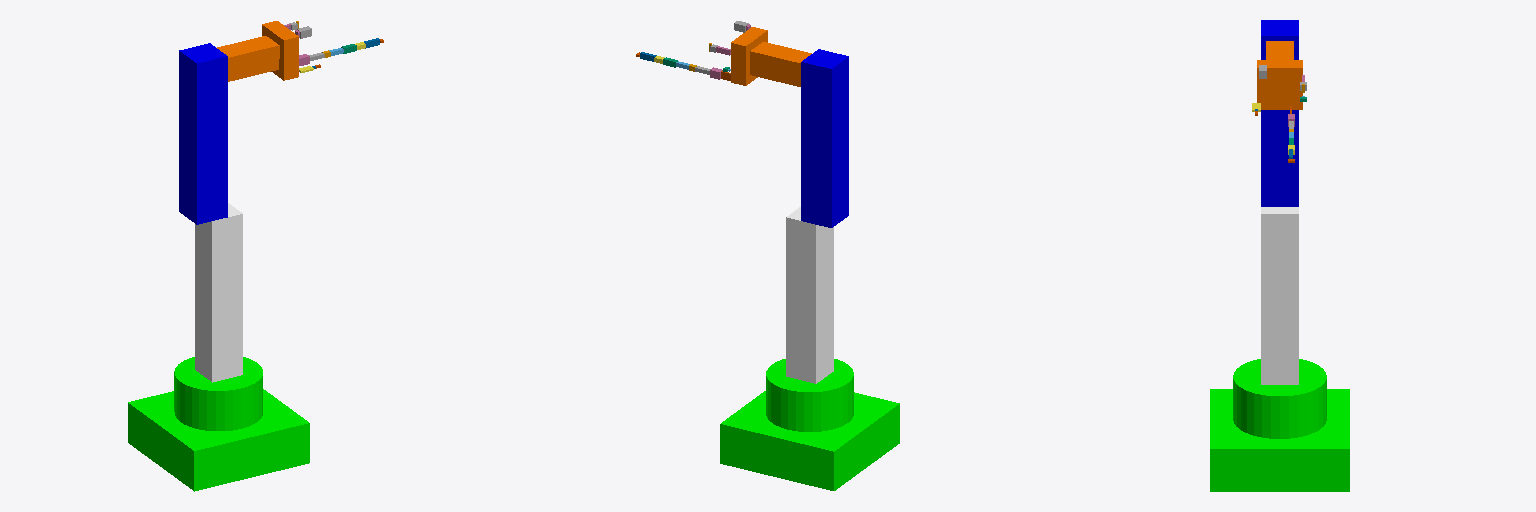
The robot description file, URDF, robot "robot":
<?xml version='1.0' encoding='utf-8'?>
<robot name="robot">
  <link name="base_link">
    <visual>
      <origin xyz="0 0 0.125" rpy="0 0 0" />
      <geometry>
        <box size="0.75 0.75 0.25" />
      </geometry>
      <material name="green" />
    </visual>
    <visual>
      <origin xyz="0 0 0.375" rpy="0 0 0" />
      <geometry>
        <cylinder length="0.25" radius="0.25" />
      </geometry>
      <material name="green">
        <color rgba="0 1 0 1" />
      </material>
    </visual>
    <collision>
      <geometry>
        <box size="0.75 0.75 0.5" />
      </geometry>
    </collision>
    <inertial>
      <mass value="0.5" />
      <inertia ixx="0.034" ixy="0.0" ixz="0.0" iyy="0.034" iyz="0.0" izz="0.034" />
    </inertial>
  </link>
  <link name="support_link">
    <visual>
      <origin xyz="0 0 0.5" rpy="0 0 0" />
      <geometry>
        <box size="0.2 0.2 1" />
      </geometry>
      <material name="white">
        <color rgba="1 1 1 1" />
      </material>
    </visual>
    <collision>
      <geometry>
        <box size="0.2 0.2 1" />
      </geometry>
    </collision>
    <inertial>
      <mass value="0.1" />
      <inertia ixx="0.01" ixy="0.0" ixz="0.0" iyy="0.01" iyz="0.0" izz="0.01" />
    </inertial>
  </link>
  <joint name="support_joint" type="continuous">
    <origin xyz="0 0 0.5" rpy="0 0 0" />
    <parent link="base_link" />
    <child link="support_link" />
    <axis xyz="0 0 1" />
  </joint>
  <link name="arm_link">
    <visual>
      <origin xyz="0 0 0.5" rpy="0 0 0" />
      <geometry>
        <box size="0.2 0.2 1" />
      </geometry>
      <material name="blue">
        <color rgba="0 0 1 1" />
      </material>
    </visual>
    <collision>
      <geometry>
        <box size="0.2 0.2 1" />
      </geometry>
    </collision>
    <inertial>
      <mass value="0.1" />
      <inertia ixx="0.01" ixy="0.0" ixz="0.0" iyy="0.01" iyz="0.0" izz="0.01" />
    </inertial>
  </link>
  <joint name="arm_joint" type="revolute">
    <origin xyz="-0.1 0 1" rpy="0 0 0" />
    <parent link="support_link" />
    <child link="arm_link" />
    <axis xyz="0 1 0" />
    <limit lower="-3.14" upper="3.14" effort="1.0" velocity="1.0" />
  </joint>
  <link name="wrist_link">
    <visual>
      <origin xyz="0 0 0.25" rpy="0 0 0" />
      <geometry>
        <box size="0.15 0.15 0.5" />
      </geometry>
      <material name="orange">
        <color rgba="1 0.5 0 1" />
      </material>
    </visual>
    <collision>
      <geometry>
        <box size="0.15 0.15 0.5" />
      </geometry>
    </collision>
    <inertial>
      <mass value="0.1" />
      <inertia ixx="0.01" ixy="0.0" ixz="0.0" iyy="0.01" iyz="0.0" izz="0.01" />
    </inertial>
  </link>
  <joint name="wrist_joint" type="fixed">
    <origin xyz="0 0 0.9" rpy="0 1.571 0" />
    <parent link="arm_link" />
    <child link="wrist_link" />
  </joint>
  <link name="palm_link">
    <visual>
      <origin xyz="0 0 0.05" rpy="0 0 0" />
      <geometry>
        <box size="0.25 0.25 0.1" />
      </geometry>
      <material name="orange" />
    </visual>
    <collision>
      <geometry>
        <box size="0.25 0.25 0.1" />
      </geometry>
    </collision>
    <inertial>
      <mass value="0.1" />
      <inertia ixx="0.01" ixy="0.0" ixz="0.0" iyy="0.01" iyz="0.0" izz="0.01" />
    </inertial>
  </link>
  <joint name="palm_joint" type="fixed">
    <origin xyz="0 0 0.45" rpy="0 0 0" />
    <parent link="wrist_link" />
    <child link="palm_link" />
  </joint>
  <link name="finger_link_0_0">
    <visual>
      <origin xyz="0 0 0.048" rpy="0 0 0" />
      <geometry>
        <box size="0.047 0.011 0.096" />
      </geometry>
    </visual>
    <collision>
      <geometry>
        <box size="0.047 0.011 0.096" />
      </geometry>
    </collision>
    <inertial>
      <mass value="0.015" />
      <inertia ixx="0.0" iyy="0.0" izz="0.0" ixy="0" ixz="0" iyz="0" />
    </inertial>
  </link>
  <joint name="finger_joint_palm_link_to_finger_link_0_0" type="revolute">
    <origin xyz="0.125 0.061 0.1" rpy="0 0 0" />
    <parent link="palm_link" />
    <child link="finger_link_0_0" />
    <axis xyz="0.0 1.0 0.0" />
    <limit lower="-3.142" upper="3.142" effort="10" velocity="10" />
  </joint>
  <link name="finger_link_0_1">
    <visual>
      <origin xyz="0 0 0.0335" rpy="0 0 0" />
      <geometry>
        <box size="0.047 0.041 0.067" />
      </geometry>
    </visual>
    <collision>
      <geometry>
        <box size="0.047 0.041 0.067" />
      </geometry>
    </collision>
    <inertial>
      <mass value="0.039" />
      <inertia ixx="0.0" iyy="0.0" izz="0.0" ixy="0" ixz="0" iyz="0" />
    </inertial>
  </link>
  <joint name="finger_joint_finger_link_0_0_to_finger_link_0_1" type="revolute">
    <origin xyz="0.0 0.0 0.096" rpy="0 0 0" />
    <parent link="finger_link_0_0" />
    <child link="finger_link_0_1" />
    <axis xyz="1.0 0.0 0.0" />
    <limit lower="-3.142" upper="3.142" effort="10" velocity="10" />
  </joint>
  <link name="finger_link_0_2">
    <visual>
      <origin xyz="0 0 0.05" rpy="0 0 0" />
      <geometry>
        <box size="0.024 0.028 0.1" />
      </geometry>
    </visual>
    <collision>
      <geometry>
        <box size="0.024 0.028 0.1" />
      </geometry>
    </collision>
    <inertial>
      <mass value="0.02" />
      <inertia ixx="0.0" iyy="0.0" izz="0.0" ixy="0" ixz="0" iyz="0" />
    </inertial>
  </link>
  <joint name="finger_joint_finger_link_0_1_to_finger_link_0_2" type="revolute">
    <origin xyz="0.0 0.0 0.067" rpy="0 0 0" />
    <parent link="finger_link_0_1" />
    <child link="finger_link_0_2" />
    <axis xyz="1.0 0.0 0.0" />
    <limit lower="-3.142" upper="3.142" effort="10" velocity="10" />
  </joint>
  <link name="finger_link_0_3">
    <visual>
      <origin xyz="0 0 0.021" rpy="0 0 0" />
      <geometry>
        <box size="0.029 0.028 0.042" />
      </geometry>
    </visual>
    <collision>
      <geometry>
        <box size="0.029 0.028 0.042" />
      </geometry>
    </collision>
    <inertial>
      <mass value="0.01" />
      <inertia ixx="0.0" iyy="0.0" izz="0.0" ixy="0" ixz="0" iyz="0" />
    </inertial>
  </link>
  <joint name="finger_joint_finger_link_0_2_to_finger_link_0_3" type="revolute">
    <origin xyz="0.0 0.0 0.1" rpy="0 0 0" />
    <parent link="finger_link_0_2" />
    <child link="finger_link_0_3" />
    <axis xyz="0.0 1.0 0.0" />
    <limit lower="-3.142" upper="3.142" effort="10" velocity="10" />
  </joint>
  <link name="finger_link_0_4">
    <visual>
      <origin xyz="0 0 0.042" rpy="0 0 0" />
      <geometry>
        <box size="0.026 0.024 0.084" />
      </geometry>
    </visual>
    <collision>
      <geometry>
        <box size="0.026 0.024 0.084" />
      </geometry>
    </collision>
    <inertial>
      <mass value="0.016" />
      <inertia ixx="0.0" iyy="0.0" izz="0.0" ixy="0" ixz="0" iyz="0" />
    </inertial>
  </link>
  <joint name="finger_joint_finger_link_0_3_to_finger_link_0_4" type="revolute">
    <origin xyz="0.0 0.0 0.042" rpy="0 0 0" />
    <parent link="finger_link_0_3" />
    <child link="finger_link_0_4" />
    <axis xyz="0.0 1.0 0.0" />
    <limit lower="-3.142" upper="3.142" effort="10" velocity="10" />
  </joint>
  <link name="finger_link_0_5">
    <visual>
      <origin xyz="0 0 0.0405" rpy="0 0 0" />
      <geometry>
        <box size="0.036 0.029 0.081" />
      </geometry>
    </visual>
    <collision>
      <geometry>
        <box size="0.036 0.029 0.081" />
      </geometry>
    </collision>
    <inertial>
      <mass value="0.025" />
      <inertia ixx="0.0" iyy="0.0" izz="0.0" ixy="0" ixz="0" iyz="0" />
    </inertial>
  </link>
  <joint name="finger_joint_finger_link_0_4_to_finger_link_0_5" type="revolute">
    <origin xyz="0.0 0.0 0.084" rpy="0 0 0" />
    <parent link="finger_link_0_4" />
    <child link="finger_link_0_5" />
    <axis xyz="0.0 1.0 0.0" />
    <limit lower="-3.142" upper="3.142" effort="10" velocity="10" />
  </joint>
  <link name="finger_link_0_6">
    <visual>
      <origin xyz="0 0 0.029" rpy="0 0 0" />
      <geometry>
        <box size="0.027 0.033 0.058" />
      </geometry>
    </visual>
    <collision>
      <geometry>
        <box size="0.027 0.033 0.058" />
      </geometry>
    </collision>
    <inertial>
      <mass value="0.016" />
      <inertia ixx="0.0" iyy="0.0" izz="0.0" ixy="0" ixz="0" iyz="0" />
    </inertial>
  </link>
  <joint name="finger_joint_finger_link_0_5_to_finger_link_0_6" type="revolute">
    <origin xyz="0.0 0.0 0.081" rpy="0 0 0" />
    <parent link="finger_link_0_5" />
    <child link="finger_link_0_6" />
    <axis xyz="0.0 1.0 0.0" />
    <limit lower="-3.142" upper="3.142" effort="10" velocity="10" />
  </joint>
  <link name="finger_link_0_7">
    <visual>
      <origin xyz="0 0 0.049" rpy="0 0 0" />
      <geometry>
        <box size="0.035 0.021 0.098" />
      </geometry>
    </visual>
    <collision>
      <geometry>
        <box size="0.035 0.021 0.098" />
      </geometry>
    </collision>
    <inertial>
      <mass value="0.022" />
      <inertia ixx="0.0" iyy="0.0" izz="0.0" ixy="0" ixz="0" iyz="0" />
    </inertial>
  </link>
  <joint name="finger_joint_finger_link_0_6_to_finger_link_0_7" type="revolute">
    <origin xyz="0.0 0.0 0.058" rpy="0 0 0" />
    <parent link="finger_link_0_6" />
    <child link="finger_link_0_7" />
    <axis xyz="0.0 1.0 0.0" />
    <limit lower="-3.142" upper="3.142" effort="10" velocity="10" />
  </joint>
  <link name="finger_link_0_8">
    <visual>
      <origin xyz="0 0 0.0115" rpy="0 0 0" />
      <geometry>
        <box size="0.013 0.033 0.023" />
      </geometry>
    </visual>
    <collision>
      <geometry>
        <box size="0.013 0.033 0.023" />
      </geometry>
    </collision>
    <inertial>
      <mass value="0.003" />
      <inertia ixx="0.0" iyy="0.0" izz="0.0" ixy="0" ixz="0" iyz="0" />
    </inertial>
  </link>
  <joint name="finger_joint_finger_link_0_7_to_finger_link_0_8" type="revolute">
    <origin xyz="0.0 0.0 0.098" rpy="0 0 0" />
    <parent link="finger_link_0_7" />
    <child link="finger_link_0_8" />
    <axis xyz="1.0 0.0 0.0" />
    <limit lower="-3.142" upper="3.142" effort="10" velocity="10" />
  </joint>
  <link name="finger_link_1_0">
    <visual>
      <origin xyz="0 0 0.044" rpy="0 0 0" />
      <geometry>
        <box size="0.033 0.017 0.088" />
      </geometry>
    </visual>
    <collision>
      <geometry>
        <box size="0.033 0.017 0.088" />
      </geometry>
    </collision>
    <inertial>
      <mass value="0.015" />
      <inertia ixx="0.0" iyy="0.0" izz="0.0" ixy="0" ixz="0" iyz="0" />
    </inertial>
  </link>
  <joint name="finger_joint_palm_link_to_finger_link_1_0" type="revolute">
    <origin xyz="-0.064 0.125 0.1" rpy="0 0 0" />
    <parent link="palm_link" />
    <child link="finger_link_1_0" />
    <axis xyz="-1.0 0.0 0.0" />
    <limit lower="-3.142" upper="3.142" effort="10" velocity="10" />
  </joint>
  <link name="finger_link_1_1">
    <visual>
      <origin xyz="0 0 0.0175" rpy="0 0 0" />
      <geometry>
        <box size="0.032 0.033 0.035" />
      </geometry>
    </visual>
    <collision>
      <geometry>
        <box size="0.032 0.033 0.035" />
      </geometry>
    </collision>
    <inertial>
      <mass value="0.011" />
      <inertia ixx="0.0" iyy="0.0" izz="0.0" ixy="0" ixz="0" iyz="0" />
    </inertial>
  </link>
  <joint name="finger_joint_finger_link_1_0_to_finger_link_1_1" type="revolute">
    <origin xyz="0.0 0.0 0.088" rpy="0 0 0" />
    <parent link="finger_link_1_0" />
    <child link="finger_link_1_1" />
    <axis xyz="0.0 1.0 0.0" />
    <limit lower="-3.142" upper="3.142" effort="10" velocity="10" />
  </joint>
  <link name="finger_link_1_2">
    <visual>
      <origin xyz="0 0 0.0085" rpy="0 0 0" />
      <geometry>
        <box size="0.048 0.013 0.017" />
      </geometry>
    </visual>
    <collision>
      <geometry>
        <box size="0.048 0.013 0.017" />
      </geometry>
    </collision>
    <inertial>
      <mass value="0.003" />
      <inertia ixx="0.0" iyy="0.0" izz="0.0" ixy="0" ixz="0" iyz="0" />
    </inertial>
  </link>
  <joint name="finger_joint_finger_link_1_1_to_finger_link_1_2" type="revolute">
    <origin xyz="0.0 0.0 0.035" rpy="0 0 0" />
    <parent link="finger_link_1_1" />
    <child link="finger_link_1_2" />
    <axis xyz="0.0 1.0 0.0" />
    <limit lower="-3.142" upper="3.142" effort="10" velocity="10" />
  </joint>
  <link name="finger_link_2_0">
    <visual>
      <origin xyz="0 0 0.0075" rpy="0 0 0" />
      <geometry>
        <box size="0.011 0.012 0.015" />
      </geometry>
    </visual>
    <collision>
      <geometry>
        <box size="0.011 0.012 0.015" />
      </geometry>
    </collision>
    <inertial>
      <mass value="0.001" />
      <inertia ixx="0.0" iyy="0.0" izz="0.0" ixy="0" ixz="0" iyz="0" />
    </inertial>
  </link>
  <joint name="finger_joint_palm_link_to_finger_link_2_0" type="revolute">
    <origin xyz="0.049 0.125 0.1" rpy="0 0 0" />
    <parent link="palm_link" />
    <child link="finger_link_2_0" />
    <axis xyz="-1.0 0.0 0.0" />
    <limit lower="-3.142" upper="3.142" effort="10" velocity="10" />
  </joint>
  <link name="finger_link_2_1">
    <visual>
      <origin xyz="0 0 0.012" rpy="0 0 0" />
      <geometry>
        <box size="0.017 0.035 0.024" />
      </geometry>
    </visual>
    <collision>
      <geometry>
        <box size="0.017 0.035 0.024" />
      </geometry>
    </collision>
    <inertial>
      <mass value="0.004" />
      <inertia ixx="0.0" iyy="0.0" izz="0.0" ixy="0" ixz="0" iyz="0" />
    </inertial>
  </link>
  <joint name="finger_joint_finger_link_2_0_to_finger_link_2_1" type="revolute">
    <origin xyz="0.0 0.0 0.015" rpy="0 0 0" />
    <parent link="finger_link_2_0" />
    <child link="finger_link_2_1" />
    <axis xyz="1.0 0.0 0.0" />
    <limit lower="-3.142" upper="3.142" effort="10" velocity="10" />
  </joint>
  <link name="finger_link_3_0">
    <visual>
      <origin xyz="0 0 0.042" rpy="0 0 0" />
      <geometry>
        <box size="0.01 0.043 0.084" />
      </geometry>
    </visual>
    <collision>
      <geometry>
        <box size="0.01 0.043 0.084" />
      </geometry>
    </collision>
    <inertial>
      <mass value="0.011" />
      <inertia ixx="0.0" iyy="0.0" izz="0.0" ixy="0" ixz="0" iyz="0" />
    </inertial>
  </link>
  <joint name="finger_joint_palm_link_to_finger_link_3_0" type="revolute">
    <origin xyz="0.088 -0.125 0.1" rpy="0 0 0" />
    <parent link="palm_link" />
    <child link="finger_link_3_0" />
    <axis xyz="1.0 0.0 0.0" />
    <limit lower="-3.142" upper="3.142" effort="10" velocity="10" />
  </joint>
  <link name="finger_link_3_1">
    <visual>
      <origin xyz="0 0 0.01" rpy="0 0 0" />
      <geometry>
        <box size="0.016 0.014 0.02" />
      </geometry>
    </visual>
    <collision>
      <geometry>
        <box size="0.016 0.014 0.02" />
      </geometry>
    </collision>
    <inertial>
      <mass value="0.001" />
      <inertia ixx="0.0" iyy="0.0" izz="0.0" ixy="0" ixz="0" iyz="0" />
    </inertial>
  </link>
  <joint name="finger_joint_finger_link_3_0_to_finger_link_3_1" type="revolute">
    <origin xyz="0.0 0.0 0.084" rpy="0 0 0" />
    <parent link="finger_link_3_0" />
    <child link="finger_link_3_1" />
    <axis xyz="1.0 0.0 0.0" />
    <limit lower="-3.142" upper="3.142" effort="10" velocity="10" />
  </joint>
  <link name="finger_link_3_2">
    <visual>
      <origin xyz="0 0 0.016" rpy="0 0 0" />
      <geometry>
        <box size="0.013 0.016 0.032" />
      </geometry>
    </visual>
    <collision>
      <geometry>
        <box size="0.013 0.016 0.032" />
      </geometry>
    </collision>
    <inertial>
      <mass value="0.002" />
      <inertia ixx="0.0" iyy="0.0" izz="0.0" ixy="0" ixz="0" iyz="0" />
    </inertial>
  </link>
  <joint name="finger_joint_finger_link_3_1_to_finger_link_3_2" type="revolute">
    <origin xyz="0.0 0.0 0.02" rpy="0 0 0" />
    <parent link="finger_link_3_1" />
    <child link="finger_link_3_2" />
    <axis xyz="0.0 1.0 0.0" />
    <limit lower="-3.142" upper="3.142" effort="10" velocity="10" />
  </joint>
  <link name="finger_link_4_0">
    <visual>
      <origin xyz="0 0 0.008" rpy="0 0 0" />
      <geometry>
        <box size="0.037 0.032 0.016" />
      </geometry>
    </visual>
    <collision>
      <geometry>
        <box size="0.037 0.032 0.016" />
      </geometry>
    </collision>
    <inertial>
      <mass value="0.006" />
      <inertia ixx="0.0" iyy="0.0" izz="0.0" ixy="0" ixz="0" iyz="0" />
    </inertial>
  </link>
  <joint name="finger_joint_palm_link_to_finger_link_4_0" type="revolute">
    <origin xyz="-0.125 -0.092 0.1" rpy="0 0 0" />
    <parent link="palm_link" />
    <child link="finger_link_4_0" />
    <axis xyz="0.0 -1.0 0.0" />
    <limit lower="-3.142" upper="3.142" effort="10" velocity="10" />
  </joint>
  <link name="finger_link_4_1">
    <visual>
      <origin xyz="0 0 0.0375" rpy="0 0 0" />
      <geometry>
        <box size="0.045 0.042 0.075" />
      </geometry>
    </visual>
    <collision>
      <geometry>
        <box size="0.045 0.042 0.075" />
      </geometry>
    </collision>
    <inertial>
      <mass value="0.043" />
      <inertia ixx="0.0" iyy="0.0" izz="0.0" ixy="0" ixz="0" iyz="0" />
    </inertial>
  </link>
  <joint name="finger_joint_finger_link_4_0_to_finger_link_4_1" type="revolute">
    <origin xyz="0.0 0.0 0.016" rpy="0 0 0" />
    <parent link="finger_link_4_0" />
    <child link="finger_link_4_1" />
    <axis xyz="0.0 1.0 0.0" />
    <limit lower="-3.142" upper="3.142" effort="10" velocity="10" />
  </joint>
</robot>

--- What the picture shows (computed from the rendered views, not written in the file) ---
Views: 3 orthographic renders of the robot side by side, from view 1: azimuth 30°, elevation 25°; view 2: azimuth 150°, elevation 25°; view 3: azimuth 270°, elevation 25°.
Robot: robot — 24 links, 23 joints (20 revolute, 1 continuous, 2 fixed); root link base_link; default pose: every joint at zero.
Links seen in each view (by area): view 1: base_link, arm_link, support_link, wrist_link, palm_link; view 2: base_link, arm_link, support_link, wrist_link, palm_link; view 3: base_link, support_link, arm_link, palm_link, wrist_link.
Boxes of the visible links, x1,y1,x2,y2 form: base_link: (128,357,309,491); arm_link: (179,43,227,224); support_link: (195,203,242,382); wrist_link: (217,36,279,81); palm_link: (262,21,298,80); base_link: (720,359,899,490); arm_link: (801,49,848,227); support_link: (786,207,833,383); wrist_link: (750,42,811,86); palm_link: (731,27,767,85); base_link: (1210,359,1349,491); support_link: (1261,207,1298,384); arm_link: (1261,20,1298,206); palm_link: (1257,60,1302,109); wrist_link: (1266,41,1293,59).
Size in the robot's own frame: 1.47 by 0.75 by 2.55 metres.
Geometry: primitives only (box / cylinder / sphere), no mesh files.